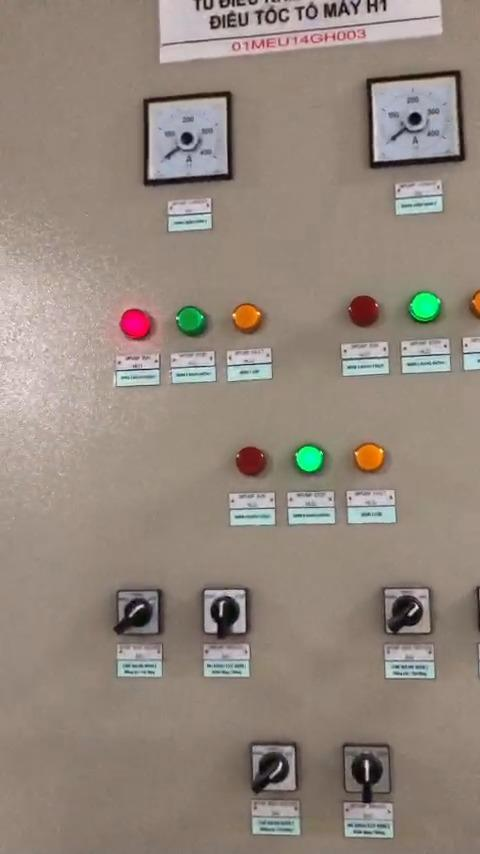led: (408, 290, 444, 325), (346, 292, 381, 328), (173, 306, 209, 341), (234, 445, 269, 480), (290, 444, 324, 480), (354, 440, 388, 475), (118, 309, 155, 341), (230, 304, 261, 337), (468, 286, 480, 324)
twist: (199, 586, 249, 638), (342, 741, 389, 796), (113, 585, 160, 636), (250, 742, 296, 793), (383, 588, 431, 634)
